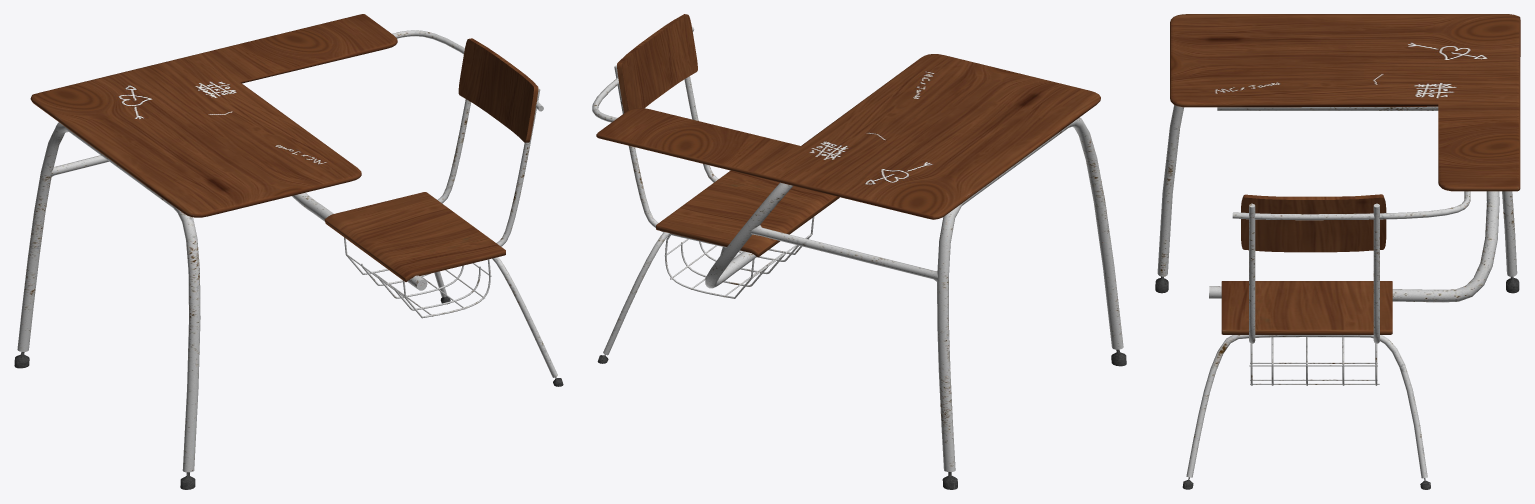
The model's file is high_school_desk.glb.
3 renders of one model, left to right at view 1: azimuth 30°, elevation 25°; view 2: azimuth 150°, elevation 25°; view 3: azimuth 270°, elevation 25°, orthographic. The views are drawn at different scales.
Visible parts, largest first — view 1: Box003; view 2: Box003; view 3: Box003.
Part boxes in pixels (x1,y1,x2,y2): Box003: (14, 14, 563, 489); Box003: (592, 14, 1126, 489); Box003: (1155, 14, 1520, 489).
Size of the model in its own units: 1.35 by 0.8955 by 1.01.
1 material, 1 textured.
